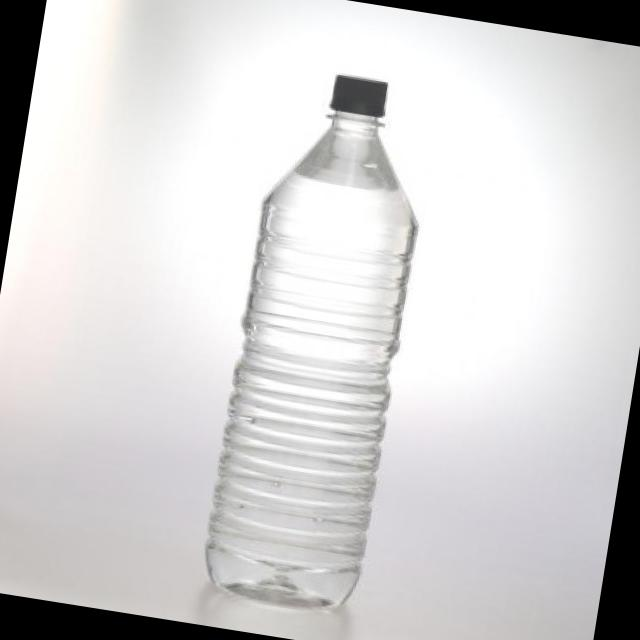plastic_bottle: (199, 63, 439, 616)
